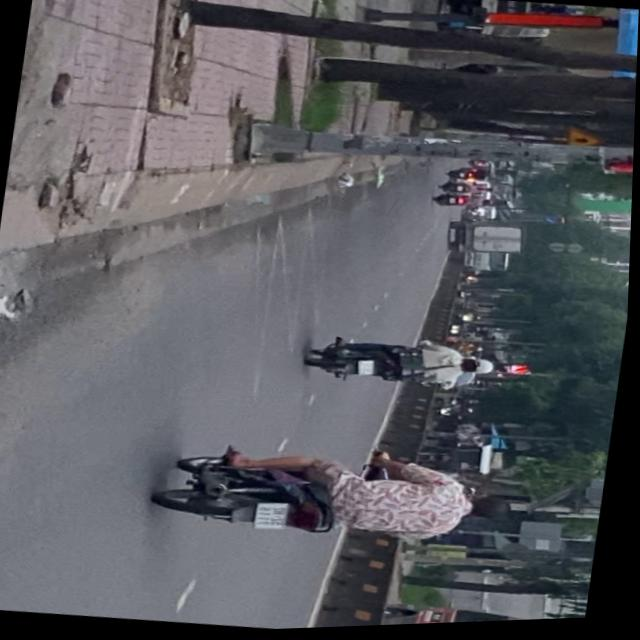helmet: (467, 360, 499, 380)
licenseplate: (151, 429, 524, 566), (304, 326, 502, 402)
motorcyclist: (470, 495, 515, 526)
nohelmet: (257, 502, 292, 532)
